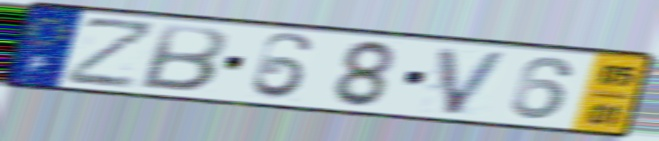6: (247, 31, 318, 104), (508, 55, 579, 122)
8: (330, 39, 401, 110)
B: (135, 22, 231, 95)
V: (434, 44, 514, 117)
Z: (63, 17, 162, 90)
